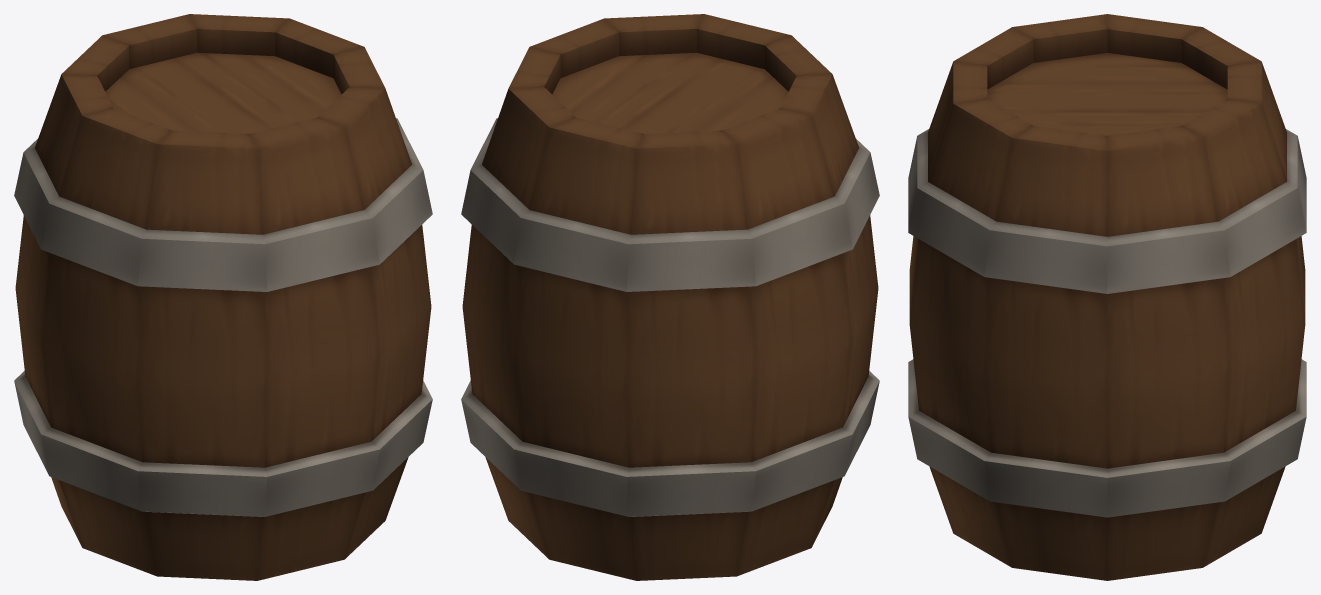
Rendered from barrel.fbx.
The picture shows the model from 3 angles, left to right: view 1: azimuth 30°, elevation 25°; view 2: azimuth 150°, elevation 25°; view 3: azimuth 270°, elevation 25°; orthographic projection.
Visible parts, largest first — view 1: barrel_; view 2: barrel_; view 3: barrel_.
Part boxes in pixels (<box>): barrel_: <box>14,14,432,580</box>; barrel_: <box>461,14,879,580</box>; barrel_: <box>908,14,1306,580</box>.
Bounding box in the file's own units: 66.68 × 75.54 × 63.42.
